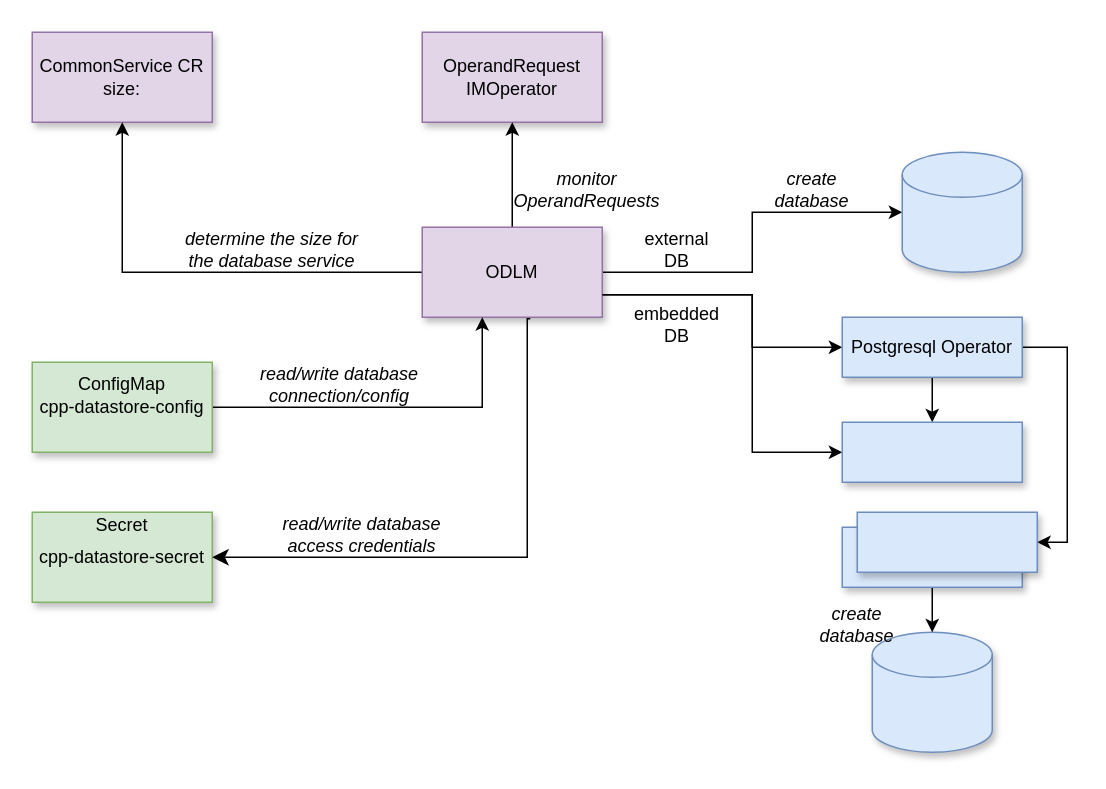
The diagram is 1106 pixels wide and 789 high, and some of its shapes have lost their labels. The centre of each missing label's shape, as x and y in pixels:
Cluster CR: the point at 933,454
datastore-edb-1: the point at 948,544
EDB: the point at 933,694
External PostgreSQL: the point at 963,214
